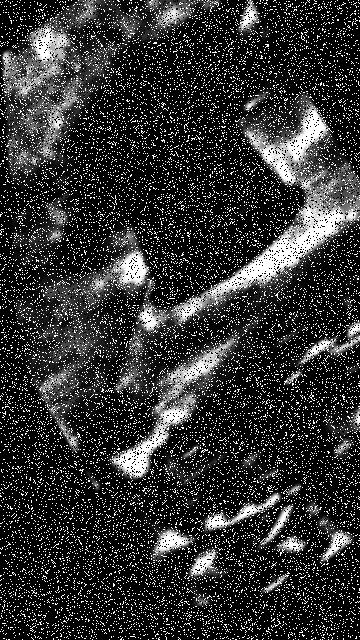pot: (122, 118, 301, 304)
